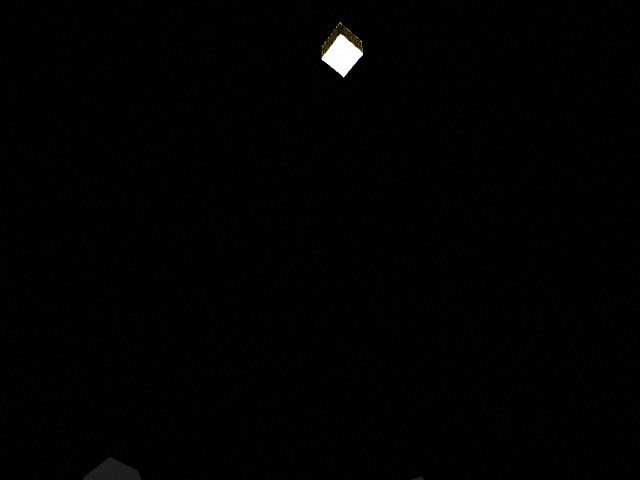cubesat: (318, 19, 364, 80)
